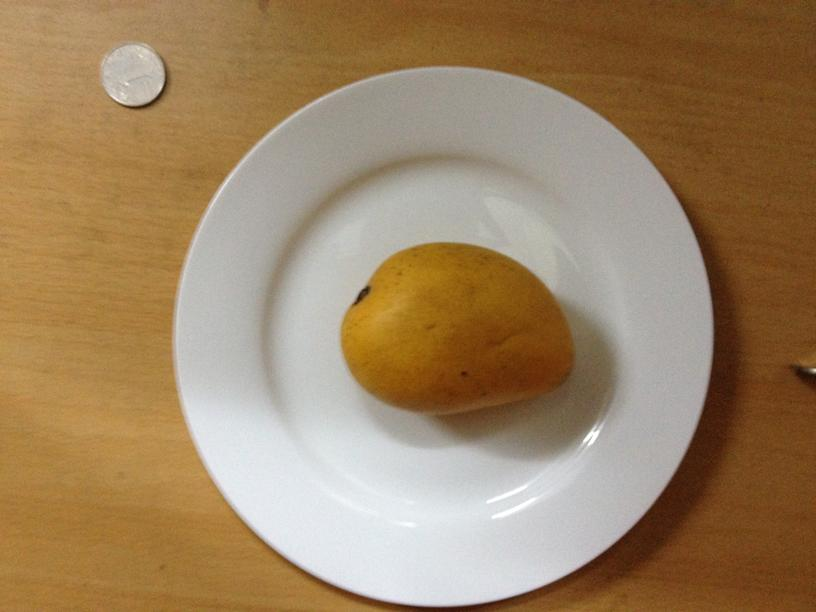coin: (100, 40, 166, 108)
mango: (342, 245, 575, 415)
